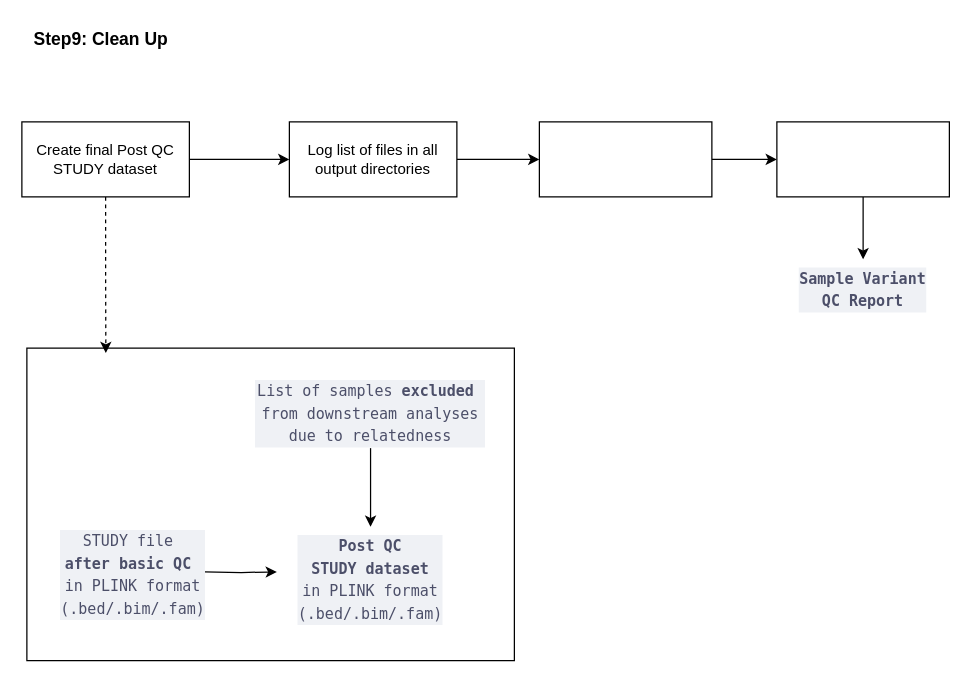
Some shapes in this 979 by 683 pixel diagram are drawn without their labels. Here are the shapes that lost their labels. From the top down, the centre of each, then its label:
(625,159): Convert HTML reports to PDF format
(862,159): Collate PDFs into a single output report
